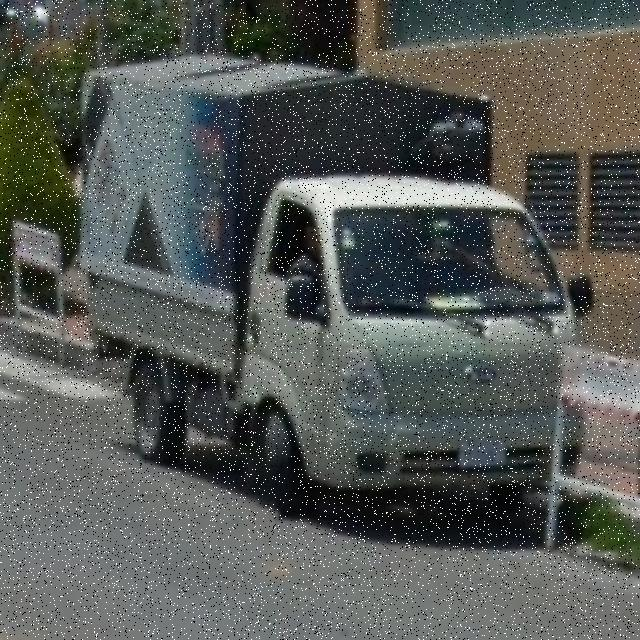cars: (70, 69, 580, 523)
